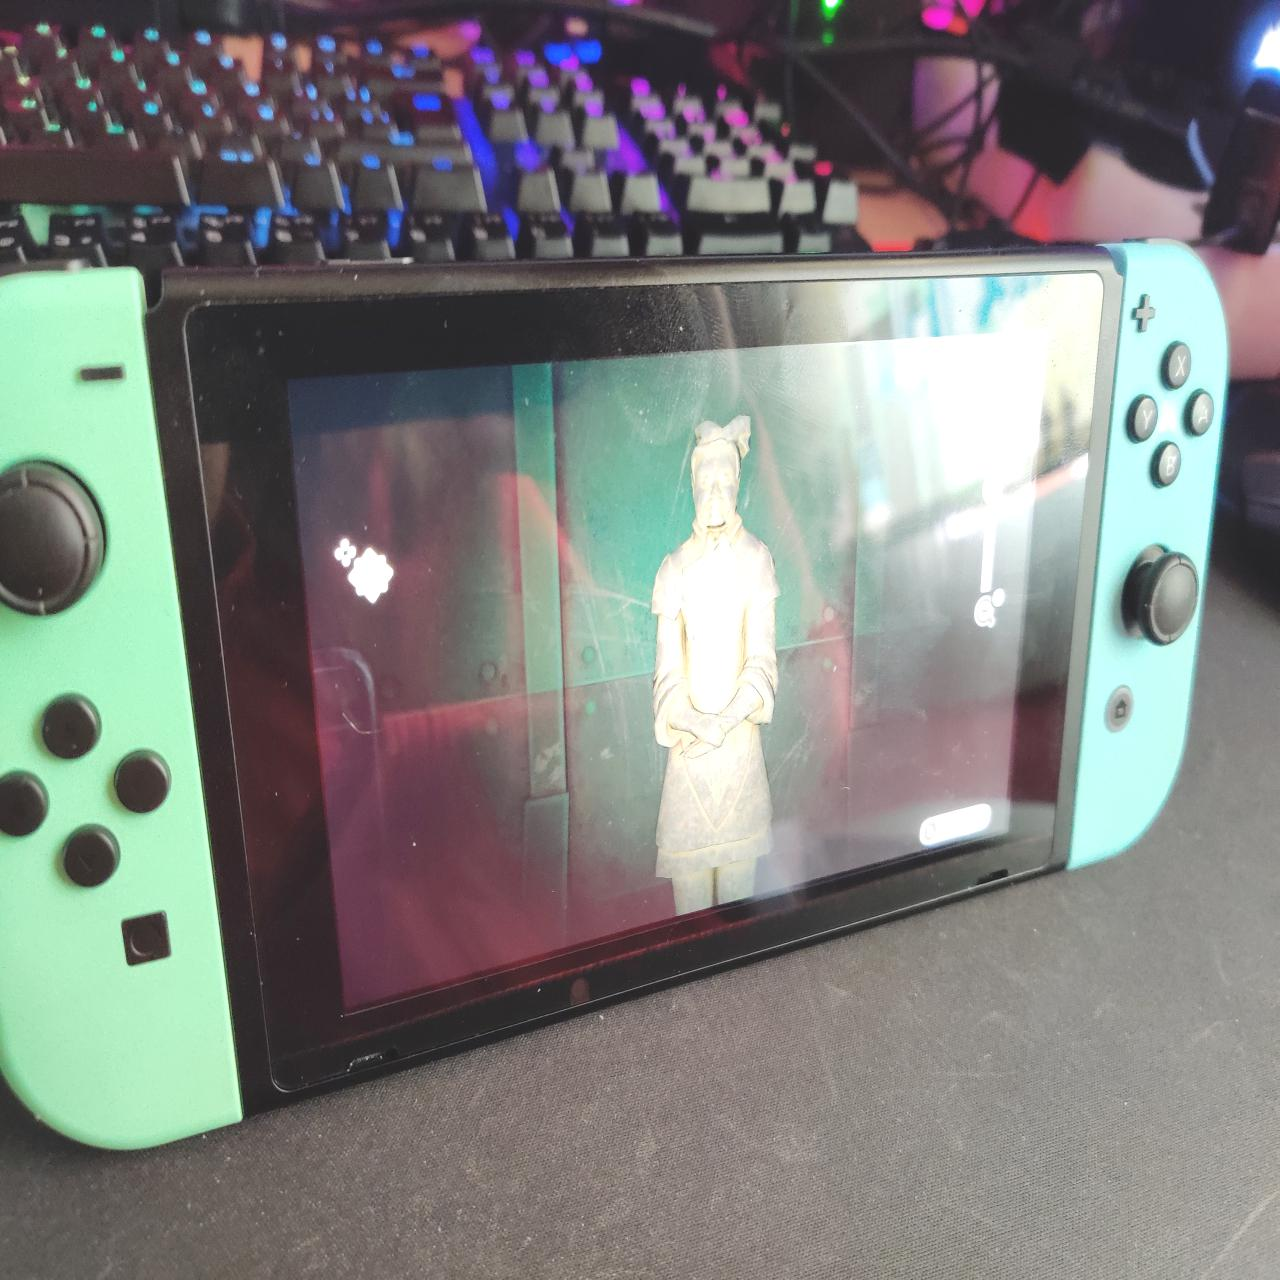Heibayo: (647, 411, 791, 915)
